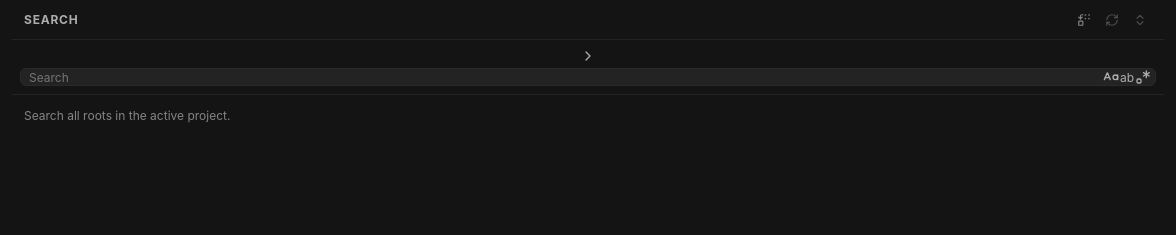
Test: Workspace Search view › shows Continue search while a token remains under the page cap
In the search field named "Search text": [564, 77] box 29,69 -> 1099,85, type "needle"
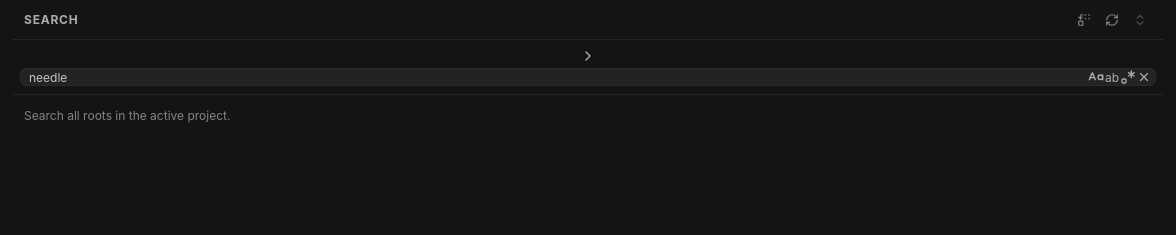
Submit the form named "Search text", box 12,40 -> 1164,95
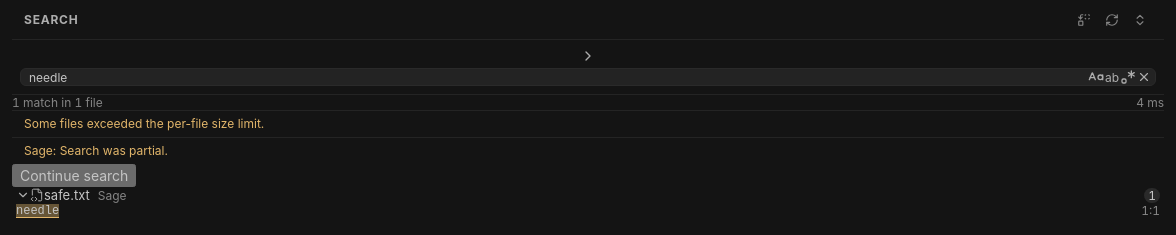
Now the button "Continue search" is shown, box 12,164 -> 136,187
